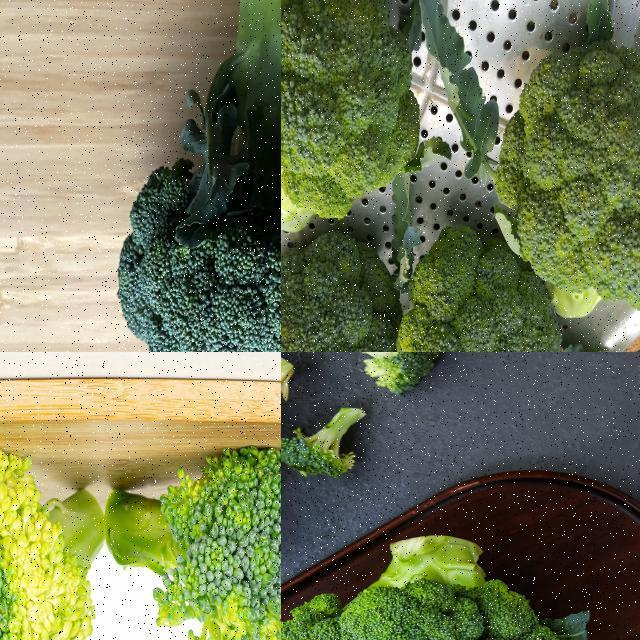broccoli: (113, 0, 280, 351), (492, 39, 639, 310), (103, 452, 280, 639), (281, 0, 419, 228), (281, 534, 579, 639), (0, 429, 107, 639), (402, 220, 571, 351), (281, 233, 400, 351), (281, 405, 368, 480), (330, 352, 452, 394)
